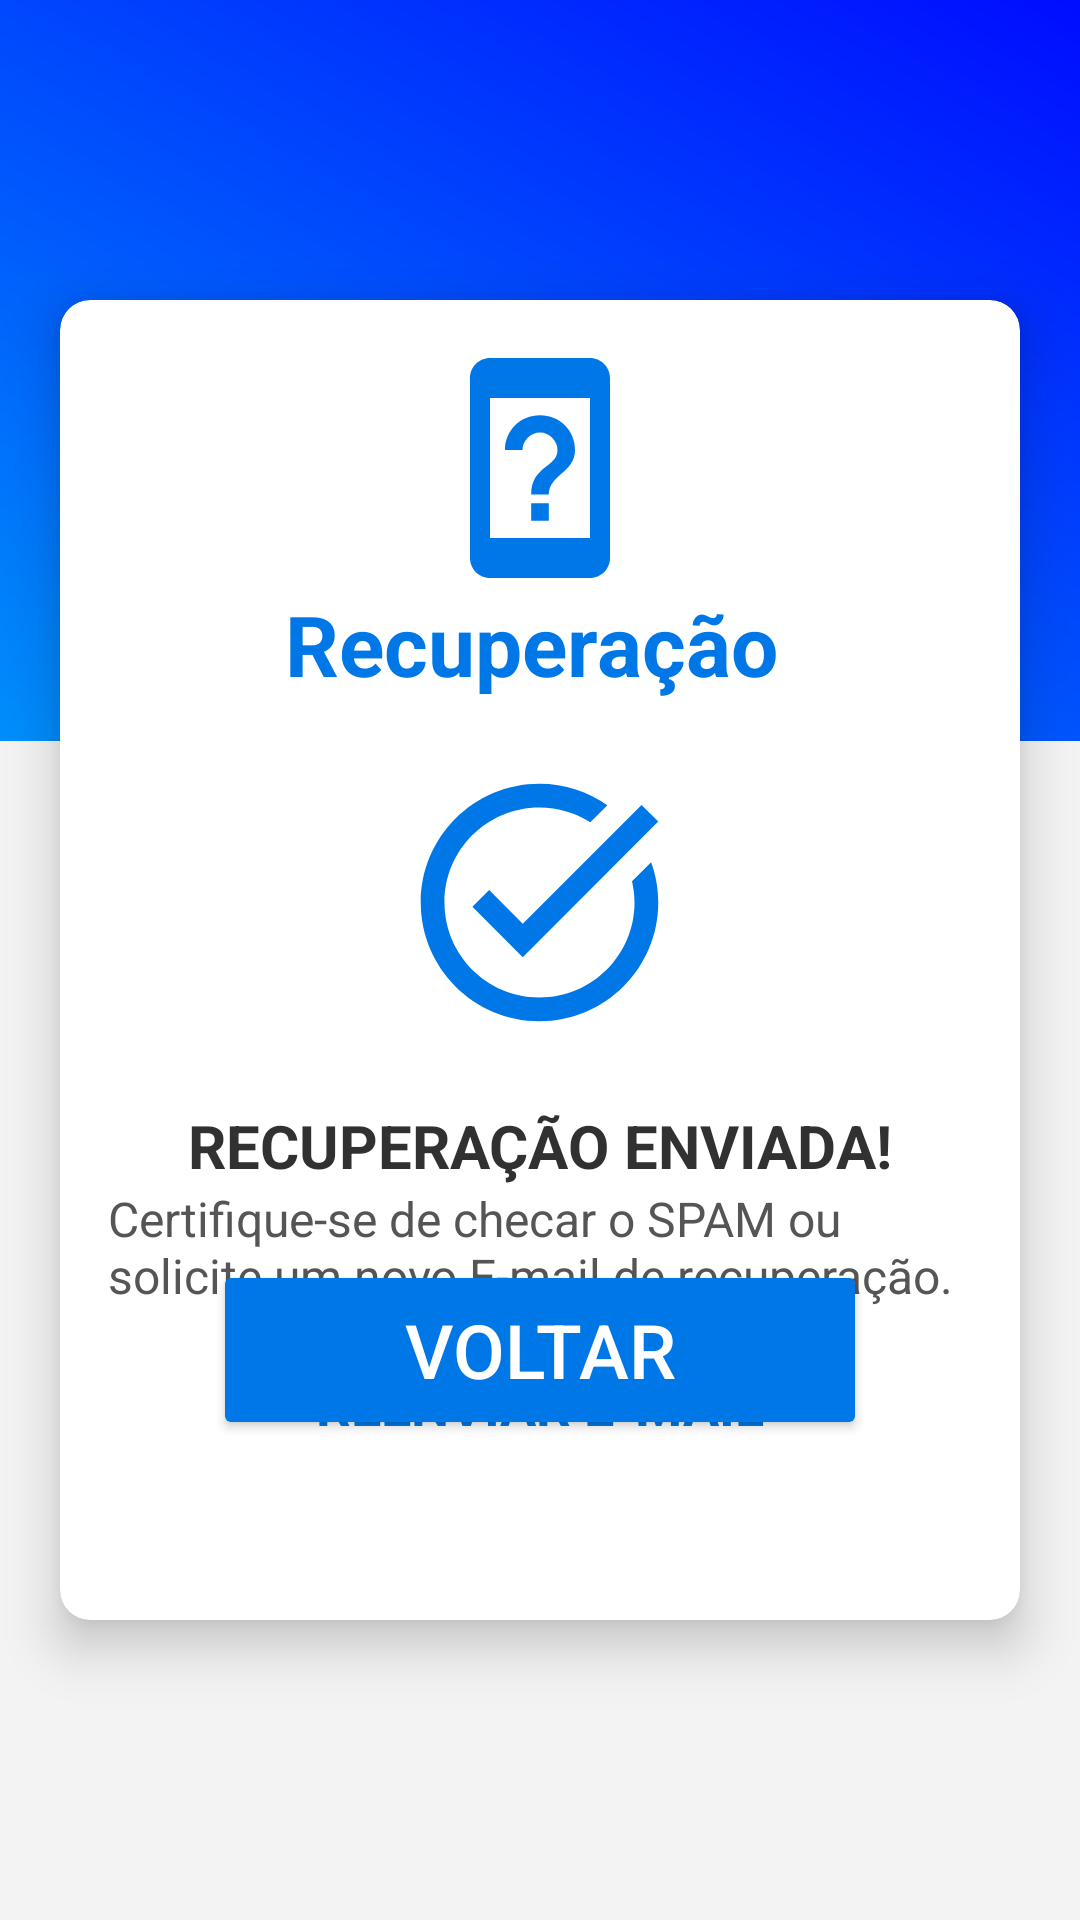

Named icons in this screenshot (1080px x 1920px) and their centers, (x=x, y=y):
device unknown: (x=540, y=468)
task: (x=539, y=902)
